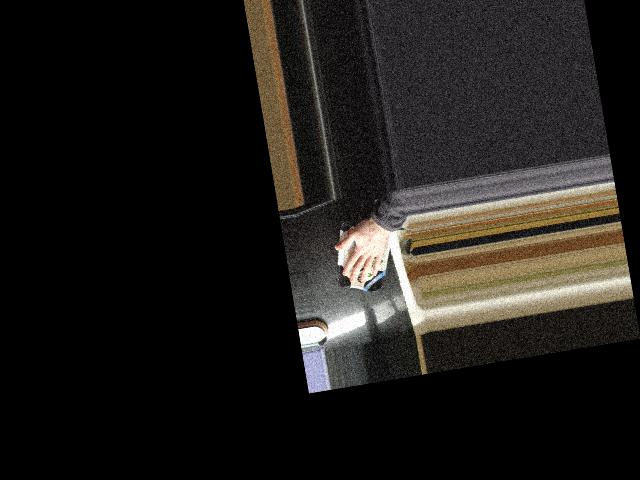cheese: (326, 212, 403, 299)
